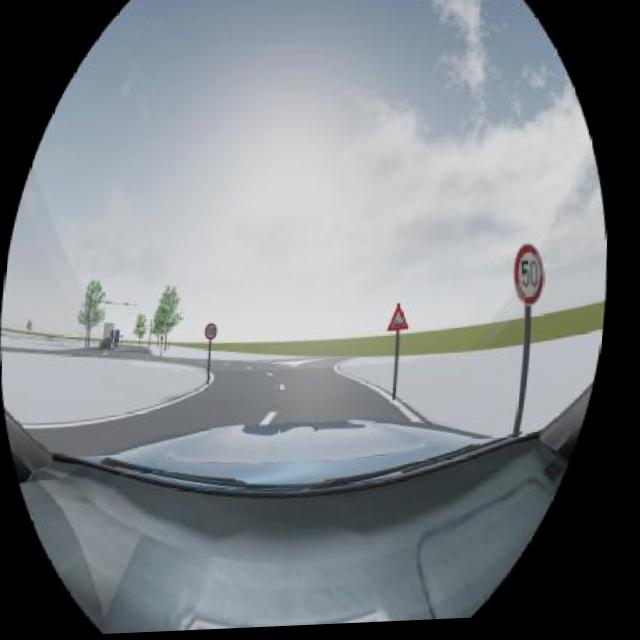Speed limit 50: (512, 246, 552, 313)
